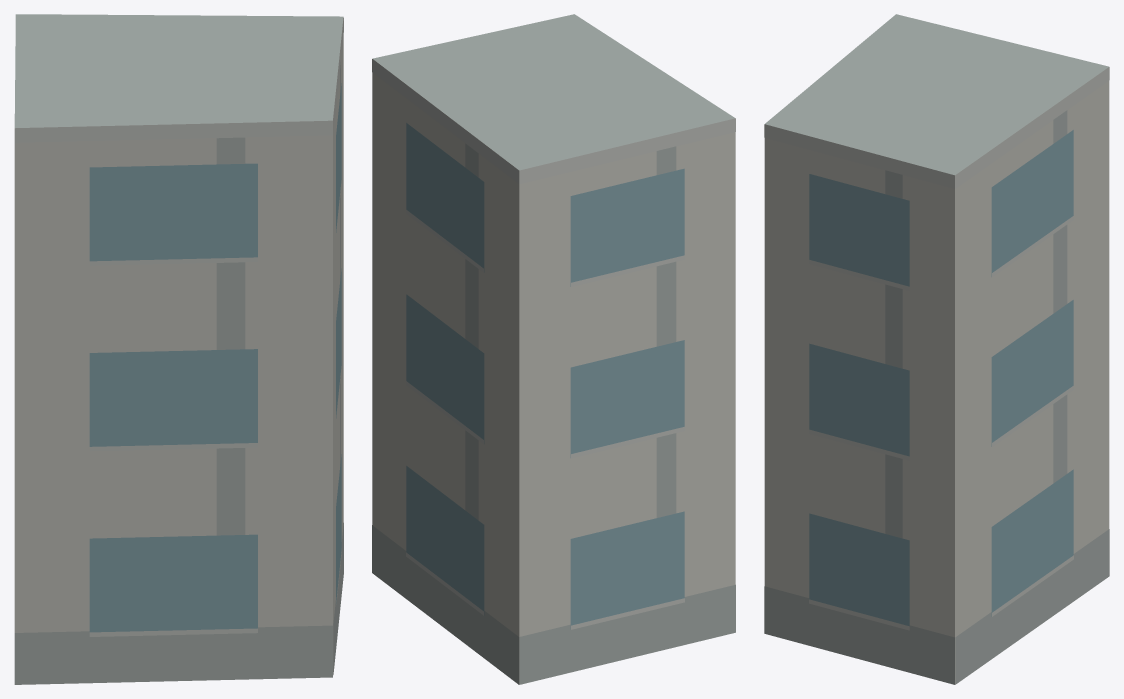
Rendered from survey-upis-32820839.glb.
3 renders of one model, left to right at view 1: azimuth 30°, elevation 25°; view 2: azimuth 150°, elevation 25°; view 3: azimuth 270°, elevation 25°, orthographic. The views are drawn at different scales.
Visible parts, largest first — view 1: survey-upis-32820839.tmp; view 2: survey-upis-32820839.tmp; view 3: survey-upis-32820839.tmp.
Boxes of the visible parts, <box> form: survey-upis-32820839.tmp: <box>14,14,343,684</box>; survey-upis-32820839.tmp: <box>372,14,735,684</box>; survey-upis-32820839.tmp: <box>764,14,1109,684</box>.
Size of the model in its own units: 6.22 by 9.15 by 5.63.
